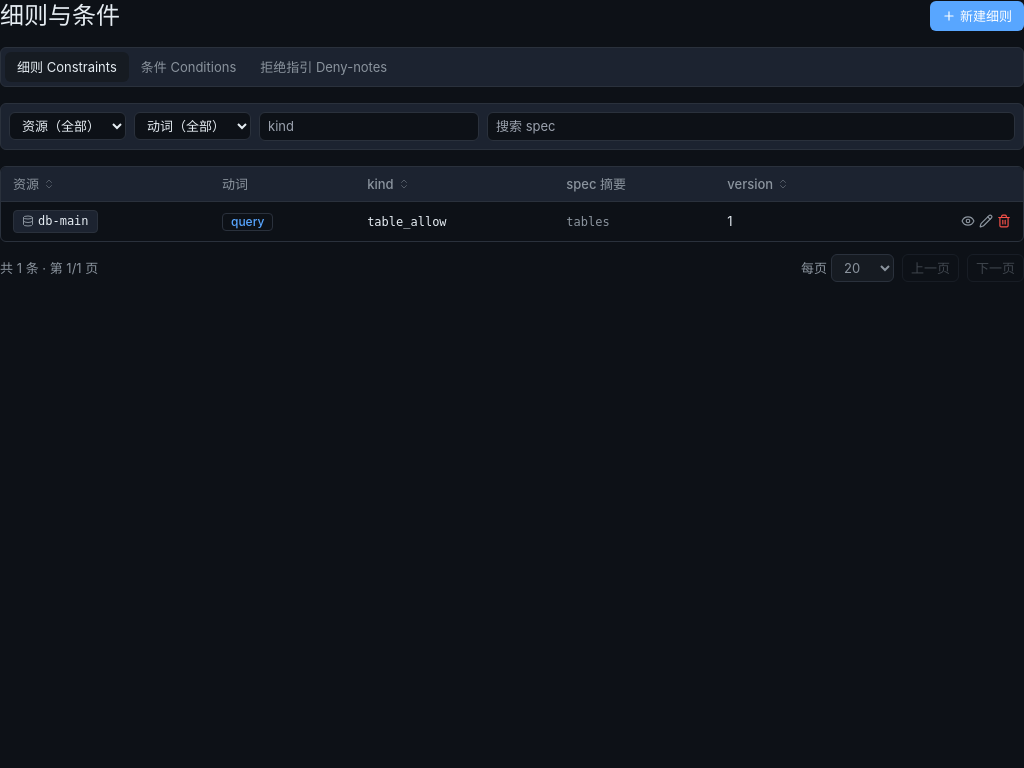
ConstraintsPage — 删除=扩大作用面（危险确认） › delete requires the explicit scope-widening acknowledgement word
Check: the text "table_allow" is shown, box [367,215,447,229]
Click the button named "删除".
click(1004, 221)  # box [997,214,1011,228]
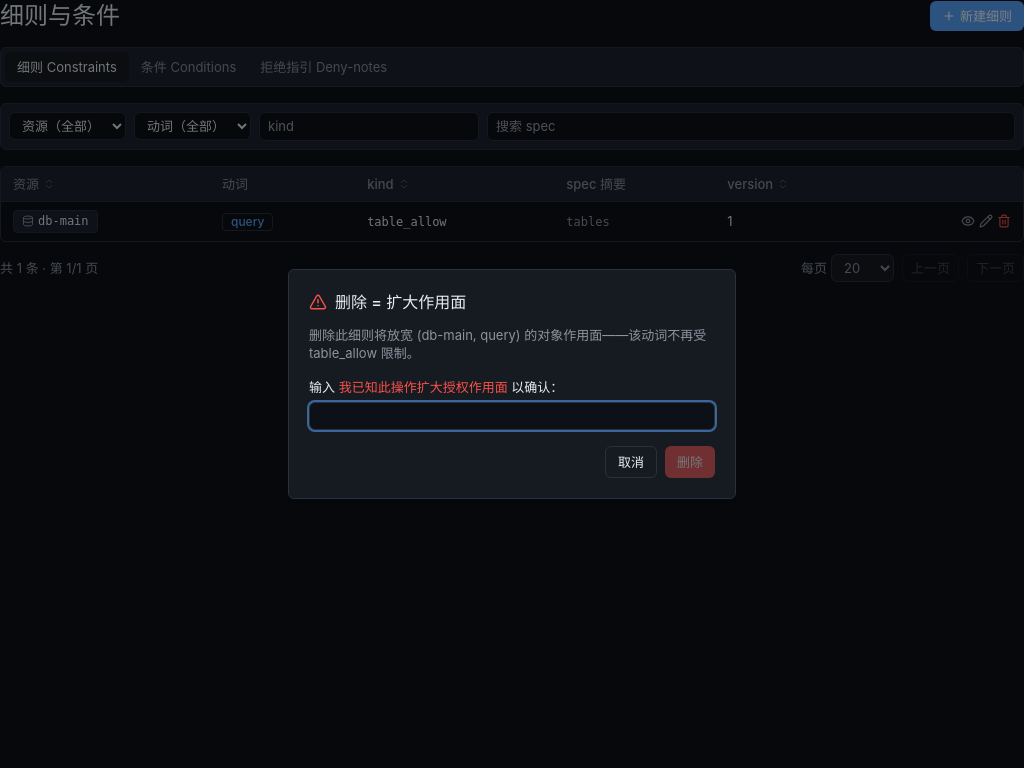
Check: the dialog shows "放宽"
Check: the button "删除" is disabled, box [665,446,715,478]
Type "我已知此操作扩大授权作用面" into the field.
click(512, 416); type("我已知此操作扩大授权作用面")  # box [309,402,715,430]
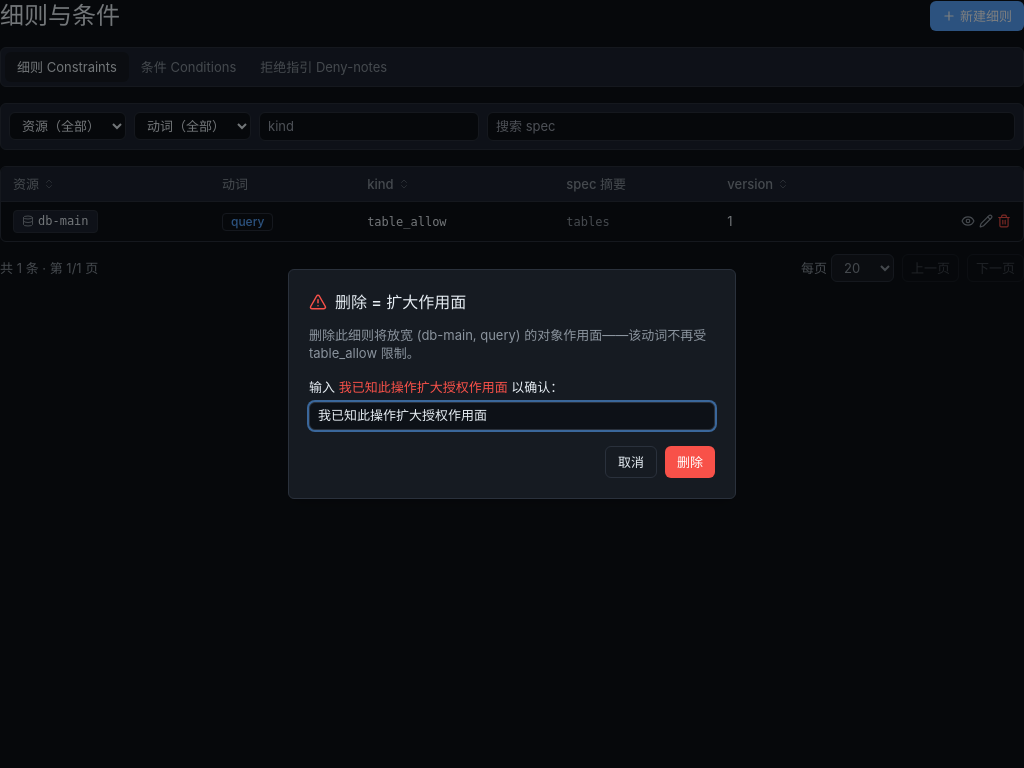
Check: the button "删除" is enabled, box [665,446,715,478]
